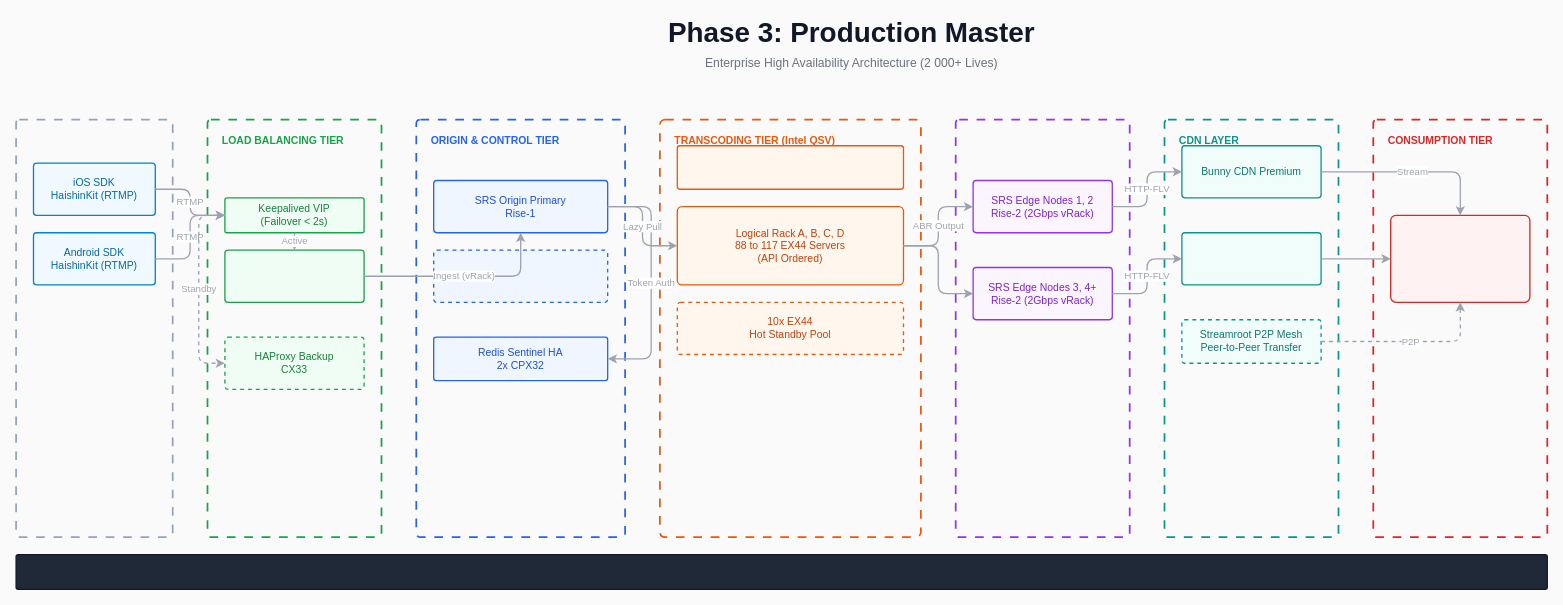
The diagram is 1563 pixels wide and 605 high, and some of its shapes have lost their labels. Each missing label, with the box of its shape:
DISTRIBUTION EDGE: (954, 118, 1130, 538)
Gcore CDN Default: (1181, 232, 1321, 285)
HAProxy Master CX33: (224, 249, 364, 303)
INGESTION TIER: (15, 118, 173, 538)
OBSERVABILITY HA: 2x AX41 NVMe + Automated Hardware Provisioning Engine: (15, 554, 1548, 590)
SRS Origin Standby Rise-1 (Keepalived): (433, 249, 608, 303)
Transcoding Capacity 1 600 - 1 755 Active Streams: (676, 145, 904, 189)
Unlimited Viewers Multi-CDN Offload P2P Data saving: (1390, 214, 1530, 303)
